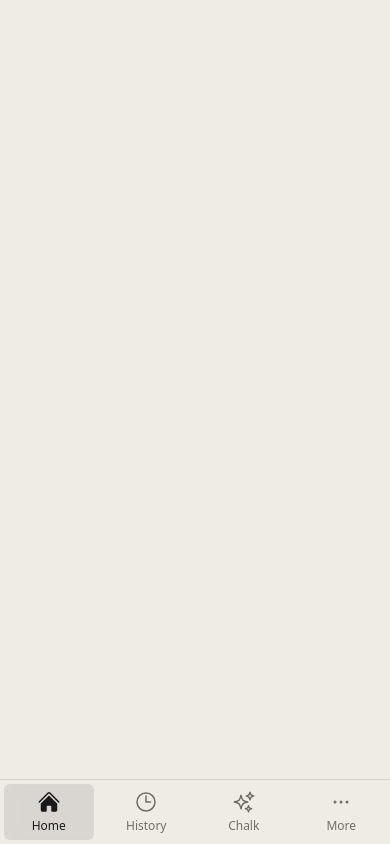
it: BottomNav › non-promoted features fall into the More sheet
This screenshot has width=390, height=844.
Expected: the link "Chalk" is shown, [228,790,259,834]
Click the button "More". click: coordinates (341, 812)
box: [296,784,386,840]
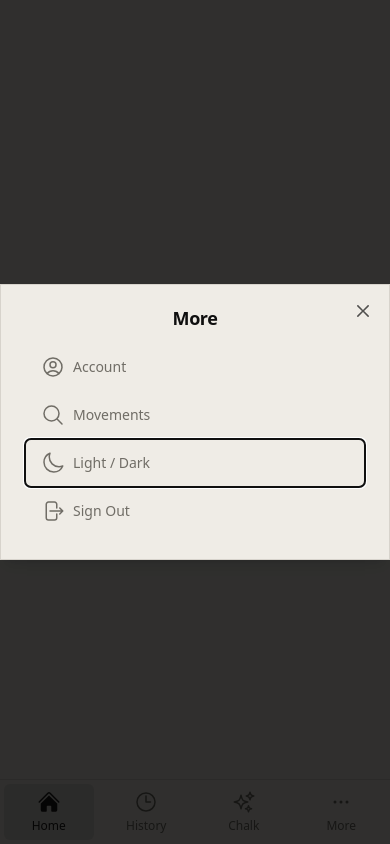
Now the link "Movements" is shown, box [41,403,150,427]
